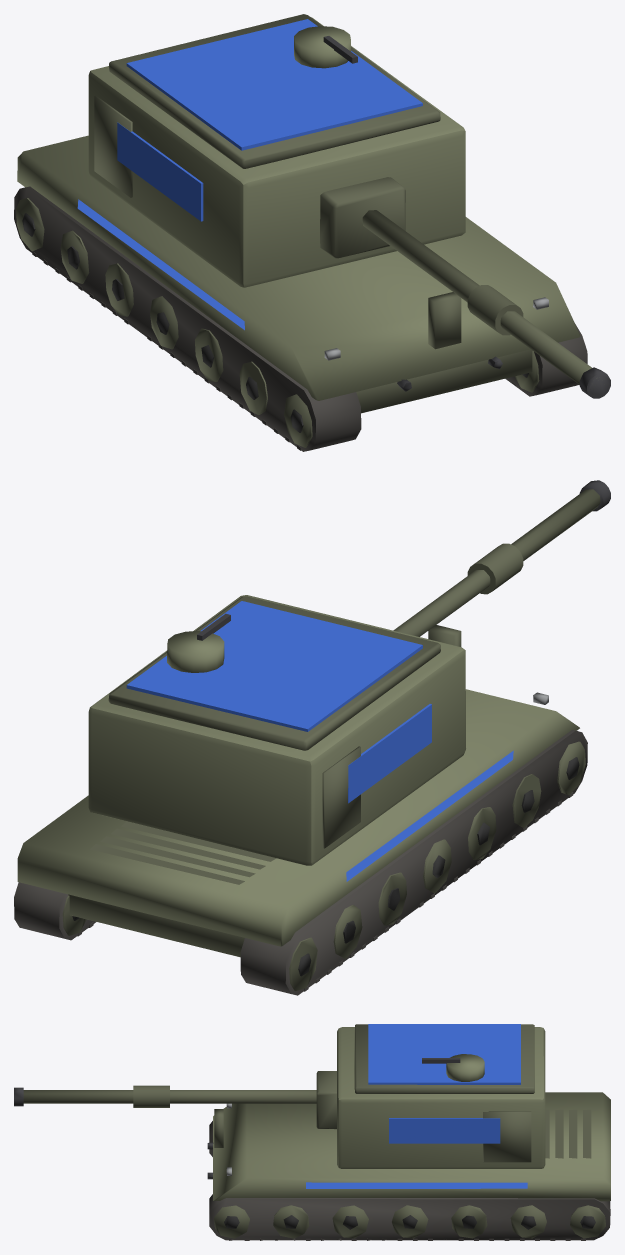
File: howitzer_lod1.glb
3 views of the same model, one above another, from view 1: azimuth 30°, elevation 25°; view 2: azimuth 150°, elevation 25°; view 3: azimuth 270°, elevation 25° (orthographic). The views are drawn at different scales.
Parts seen in each view (by area): view 1: turret, hull; view 2: turret, hull; view 3: hull, turret.
Part boxes in pixels (<box>): turret: <box>88,14,610,398</box>; hull: <box>14,135,587,451</box>; turret: <box>88,480,610,865</box>; hull: <box>14,625,587,995</box>; hull: <box>207,1092,610,1240</box>; turret: <box>14,1024,545,1168</box>.
Size of the model in its own units: 3.06 by 2.52 by 8.59.
